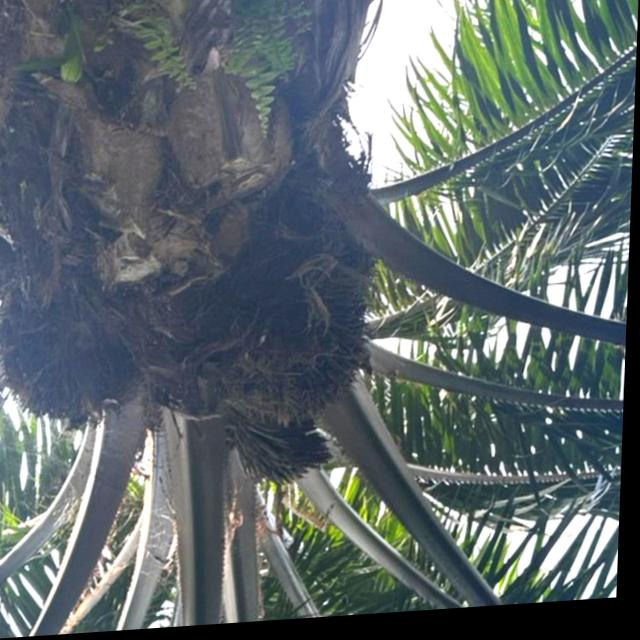almost: (208, 225, 377, 429)
